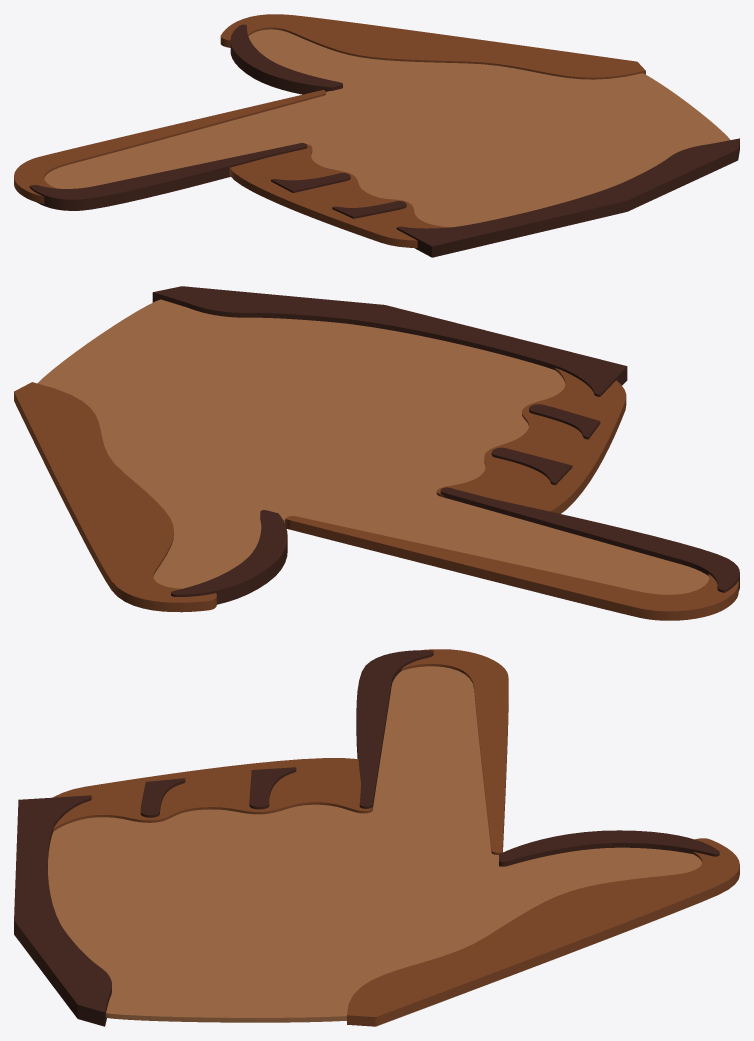
The model's file is emoji_u1f448_1f3fe.glb.
3 renders of one model, top to bottom at view 1: azimuth 30°, elevation 25°; view 2: azimuth 150°, elevation 25°; view 3: azimuth 270°, elevation 25°, orthographic. The views are drawn at different scales.
Parts seen in each view (by area): view 1: emoji_u1f448_1f3fe; view 2: emoji_u1f448_1f3fe; view 3: emoji_u1f448_1f3fe.
Part boxes in pixels (left/top/right/bottom): emoji_u1f448_1f3fe: left=14, top=14, right=739, bottom=257; emoji_u1f448_1f3fe: left=14, top=286, right=739, bottom=620; emoji_u1f448_1f3fe: left=14, top=649, right=739, bottom=1026.
Bounding box in the file's own units: 0.0331 × 0.0006 × 0.0276.
